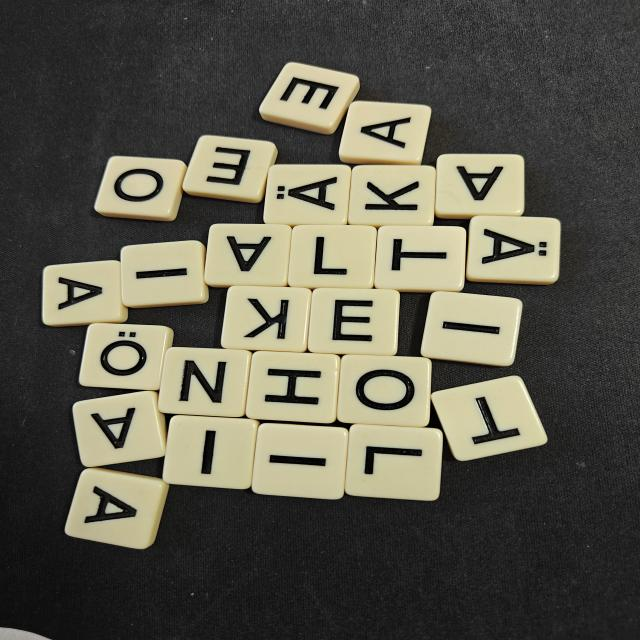a: (65, 468, 169, 549), (72, 390, 166, 467), (339, 101, 431, 165), (435, 154, 524, 219), (42, 260, 128, 326), (204, 224, 291, 287)
a_dot: (466, 216, 561, 285), (264, 164, 352, 226)
e: (259, 62, 360, 134), (182, 135, 277, 203), (307, 288, 400, 355)
h: (246, 351, 340, 423)
i: (421, 291, 522, 366), (252, 423, 349, 499), (163, 415, 259, 489), (121, 240, 208, 308)
k: (221, 286, 312, 352), (348, 165, 436, 228)
l: (345, 424, 443, 501), (288, 225, 377, 289)
n: (158, 347, 252, 417)
o: (337, 354, 431, 427), (94, 156, 187, 221)
o_dot: (79, 323, 173, 390)
t: (432, 375, 547, 461), (374, 225, 466, 292)
